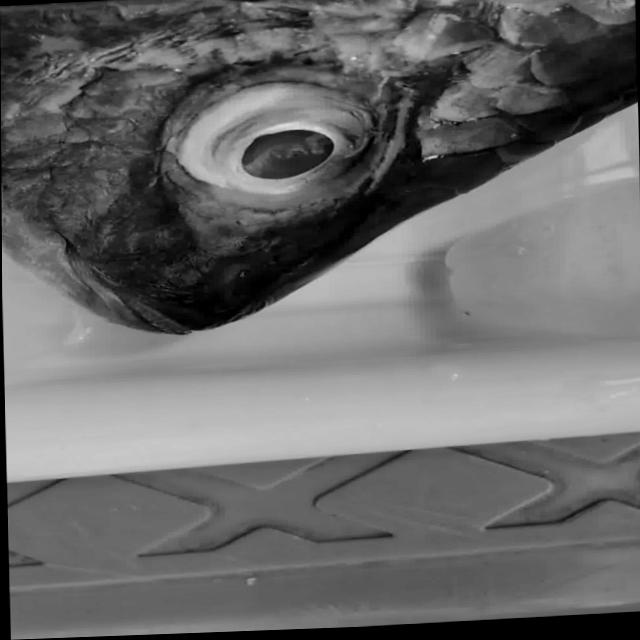Fresh: (174, 66, 409, 217)
